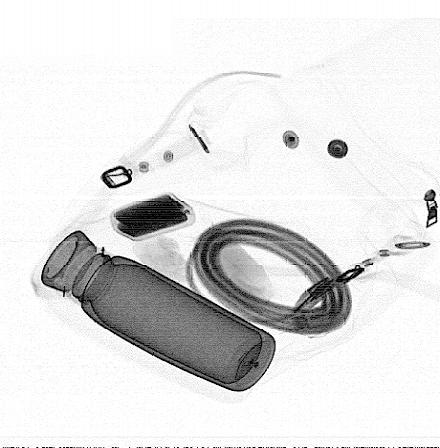Powerbank: (109, 190, 197, 243)
